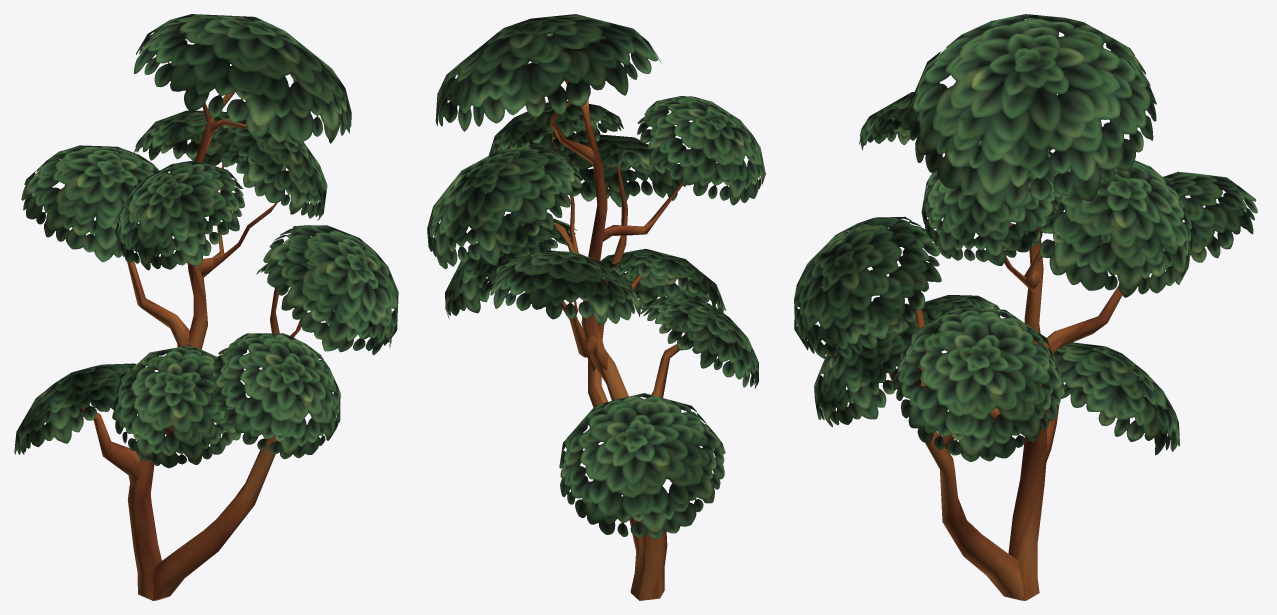
File: Deciduous_tree_small.fbx
3 views of the same model, side by side, from view 1: azimuth 30°, elevation 25°; view 2: azimuth 150°, elevation 25°; view 3: azimuth 270°, elevation 25° (orthographic). The views are drawn at different scales.
Parts seen in each view (by area): view 1: Deciduous_tree_small; view 2: Deciduous_tree_small; view 3: Deciduous_tree_small.
Boxes of the visible parts, left/top/right/bottom form: Deciduous_tree_small: left=14, top=14, right=398, bottom=600; Deciduous_tree_small: left=427, top=14, right=765, bottom=600; Deciduous_tree_small: left=794, top=14, right=1257, bottom=600.
Size of the model in its own units: 499 by 847 by 598.
